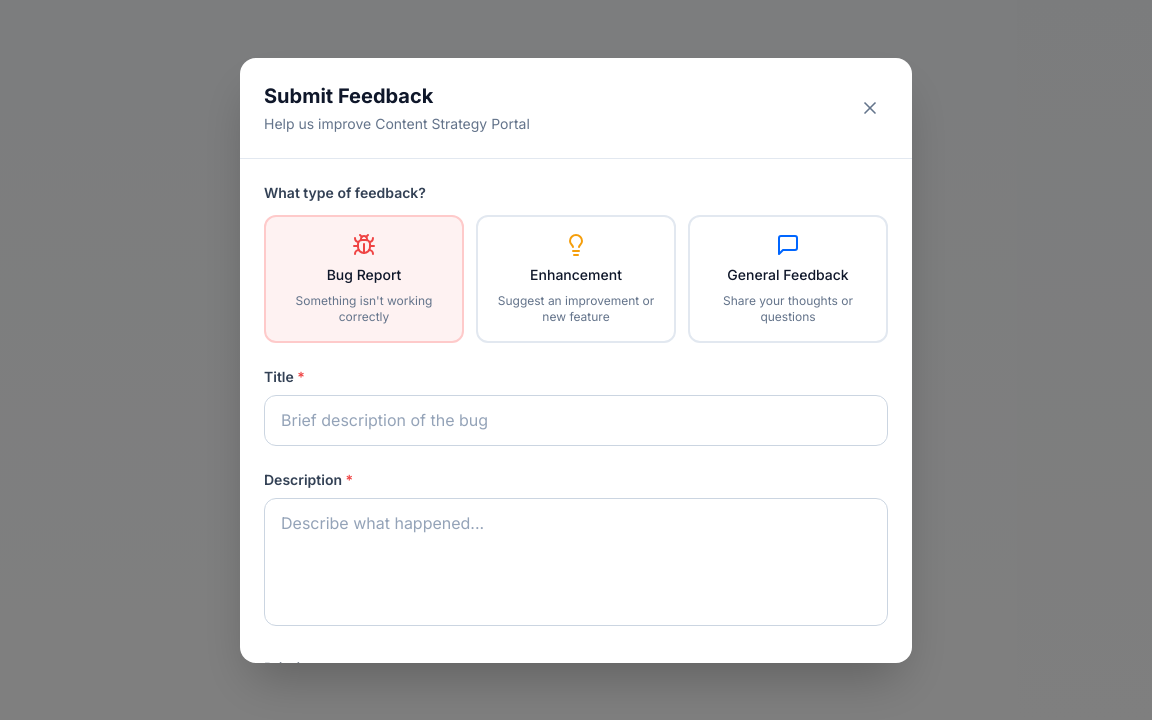
FeedbackForm › feedback type selection › shows bug-specific fields when Bug Report is selected
The image size is (1152, 720).
Click the text "Bug Report" at (364, 274), box [327,264,401,284]
(page scrolled)
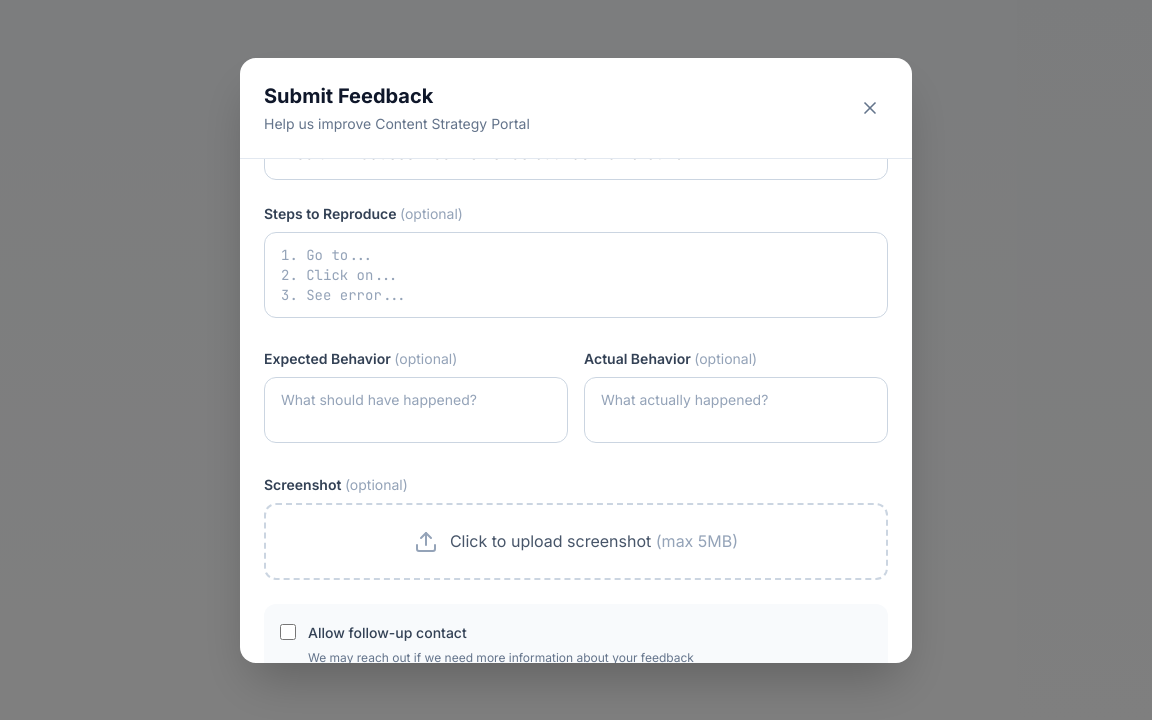
Check: the text box labelled "Steps to Reproduce (optional)" is shown, box [264,232,888,318]
Check: the text box labelled "Expected Behavior (optional)" is shown, box [264,377,568,443]
Check: the text box labelled "Actual Behavior (optional)" is shown, box [584,377,888,443]
